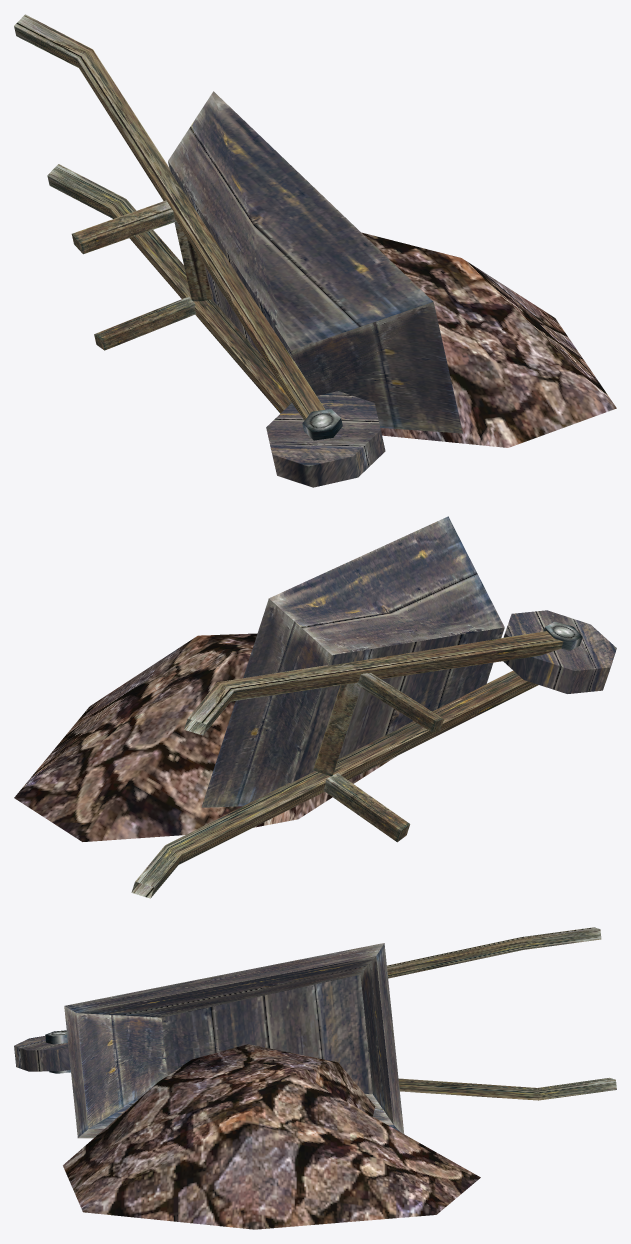
File: m_tachka3.glb
The picture shows the model from 3 angles, top to bottom: view 1: azimuth 30°, elevation 25°; view 2: azimuth 150°, elevation 25°; view 3: azimuth 270°, elevation 25°; orthographic projection. The views are drawn at different scales.
Parts seen in each view (by area): view 1: m_tachka3; view 2: m_tachka3; view 3: m_tachka3.
Part boxes in pixels (bbox=[...]): m_tachka3: bbox=[14, 14, 616, 487]; m_tachka3: bbox=[14, 516, 616, 898]; m_tachka3: bbox=[14, 927, 616, 1229].
Size of the model in its own units: 1.38 by 0.7373 by 2.16.
Materials: 4 (4 with a texture image).
